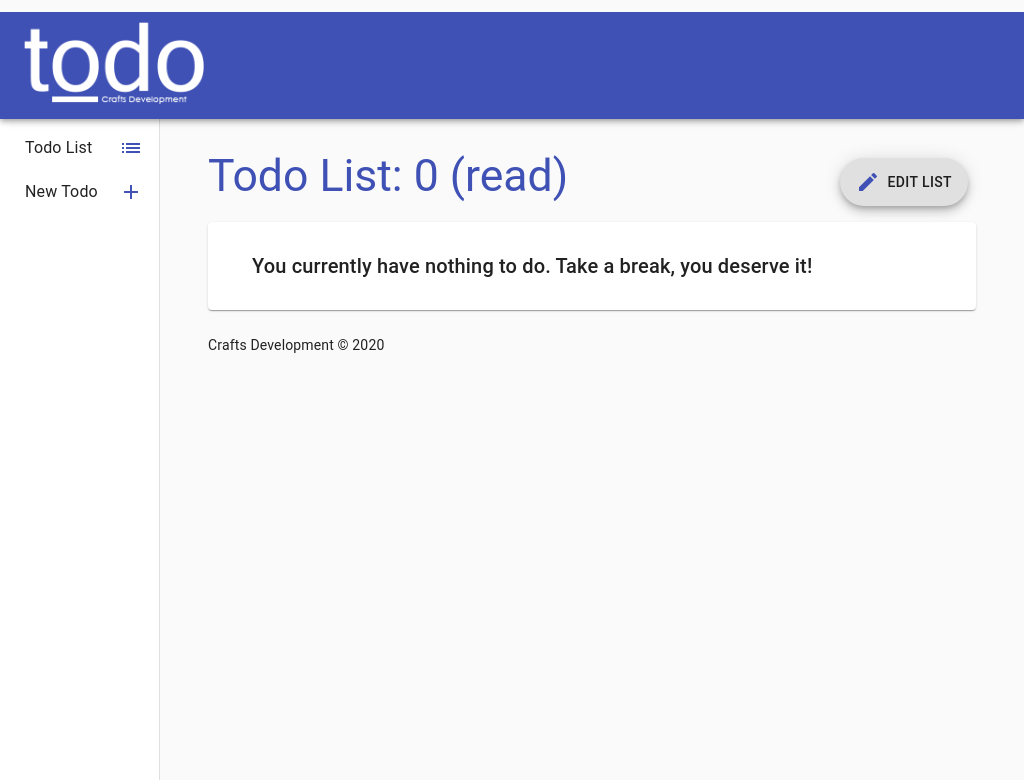
Scenario: Testing application routes › Test New Todo Page
Click the menu item with test id "add-menu-item" at (84, 192), box [25,180,143,204]
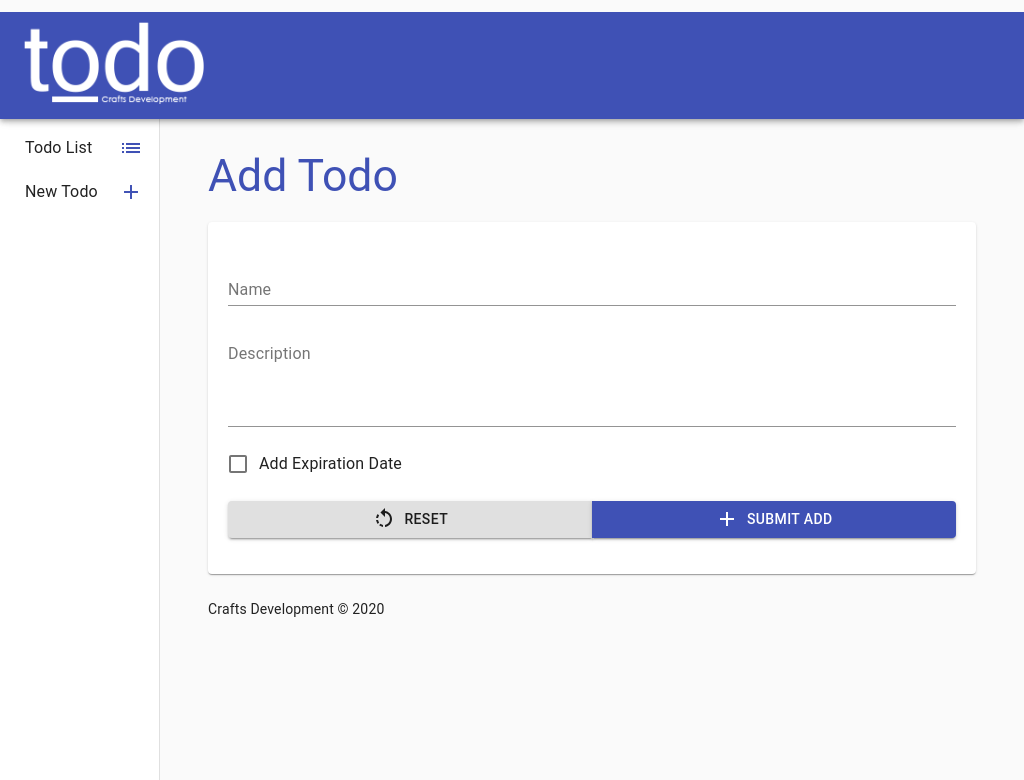
expect the heading "Add Todo" is shown: met, box [208,150,398,202]
